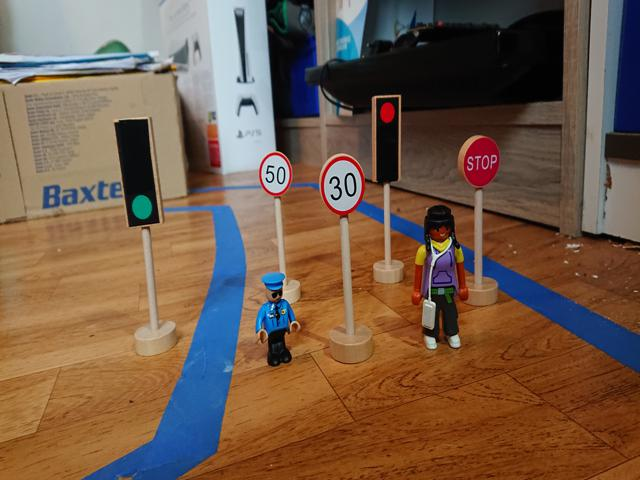30 speed sign: (321, 155, 367, 216)
50 speed sign: (258, 152, 291, 195)
green light: (118, 122, 153, 222)
person: (408, 204, 468, 352), (253, 272, 301, 367)
red light: (375, 98, 398, 175)
stop sign: (463, 136, 500, 188)
